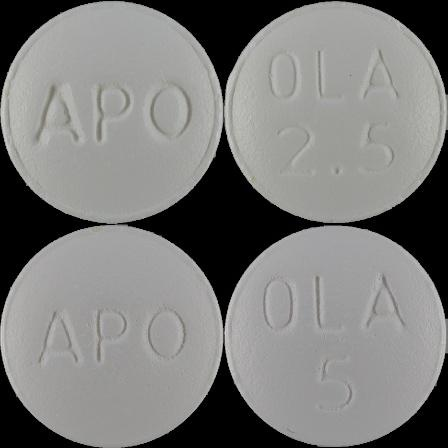60505-3110: (0, 0, 224, 224)
